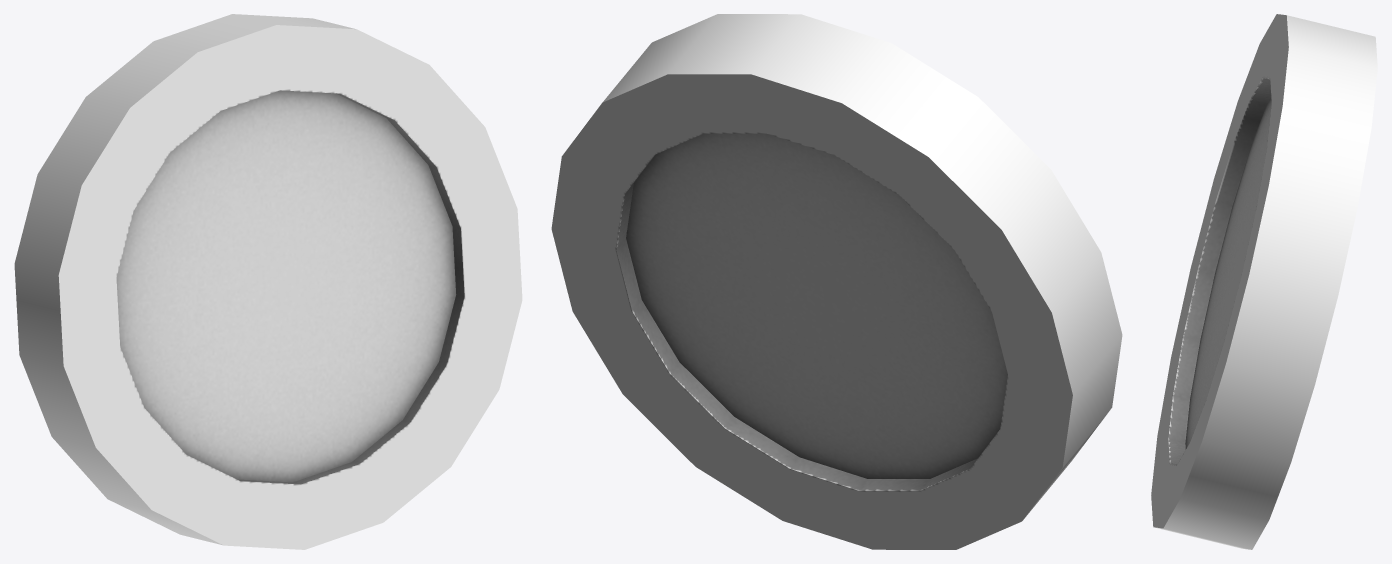
The model's file is CoinFBX.fbx.
3 renders of one model, left to right at view 1: azimuth 30°, elevation 25°; view 2: azimuth 150°, elevation 25°; view 3: azimuth 270°, elevation 25°, orthographic. The views are drawn at different scales.
Visible parts, largest first — view 1: Coin; view 2: Coin; view 3: Coin.
Part boxes in pixels (left/top/right/bottom): Coin: left=14, top=14, right=522, bottom=549; Coin: left=551, top=14, right=1122, bottom=549; Coin: left=1151, top=14, right=1377, bottom=549.
Bounding box in the file's own units: 0.2805 × 0.2835 × 0.1191.
